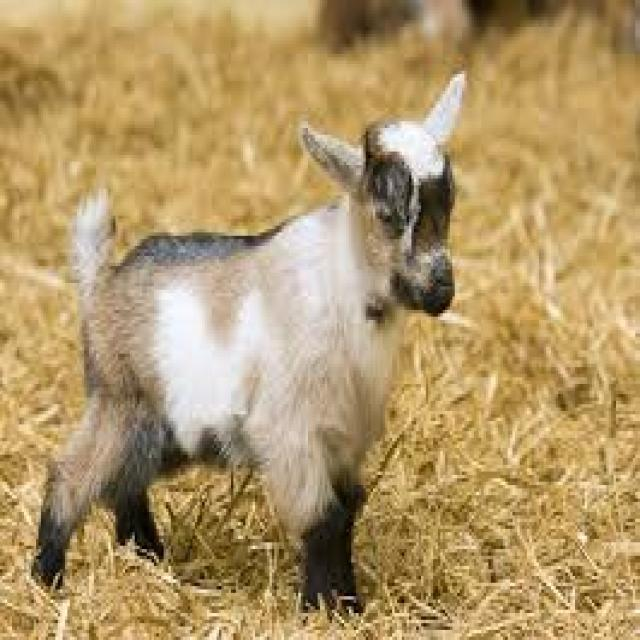Goat: (31, 72, 469, 582)
